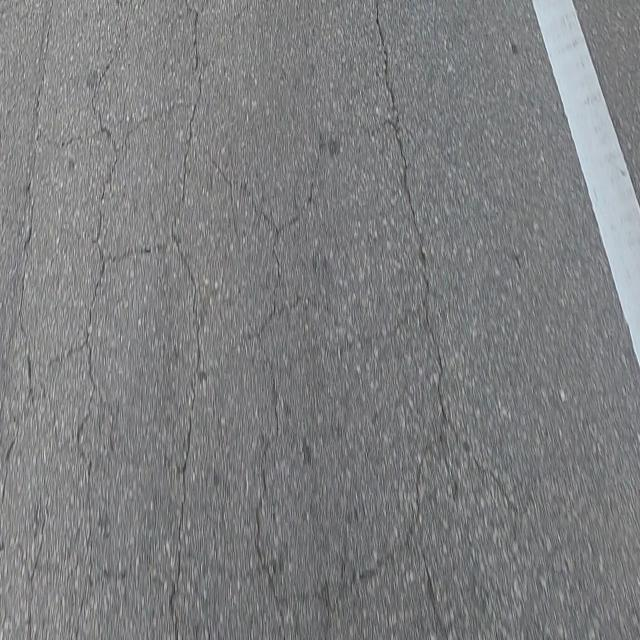Retak-Buaya: (0, 3, 289, 635)
Retak-Memanjang: (376, 3, 450, 421)
